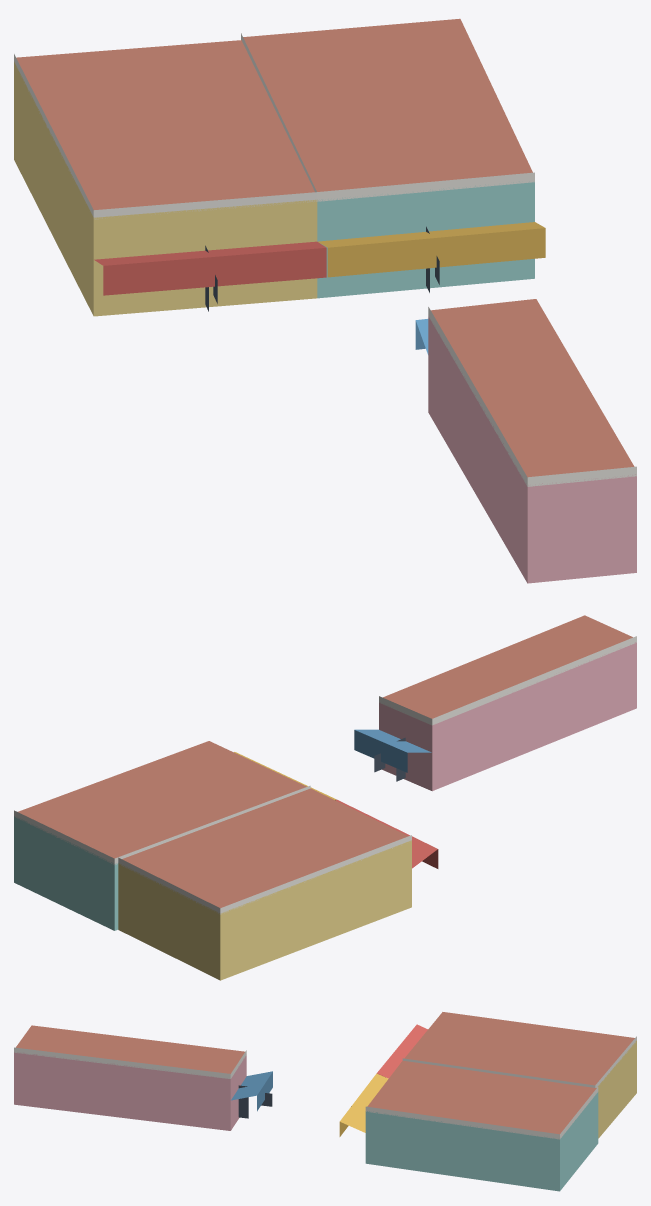
File: snmain_east.glb
The picture shows the model from 3 angles, top to bottom: view 1: azimuth 30°, elevation 25°; view 2: azimuth 150°, elevation 25°; view 3: azimuth 270°, elevation 25°; orthographic projection. The views are drawn at different scales.
Visible parts, largest first — view 1: snmain_east_lod0; view 2: snmain_east_lod0; view 3: snmain_east_lod0.
Part boxes in pixels (x1,y1,x2,y2): snmain_east_lod0: (14, 18, 636, 583); snmain_east_lod0: (14, 615, 636, 980); snmain_east_lod0: (14, 1012, 636, 1191).
Size of what is drawn, in the model's own units: 18.96 by 3.93 by 38.8.
